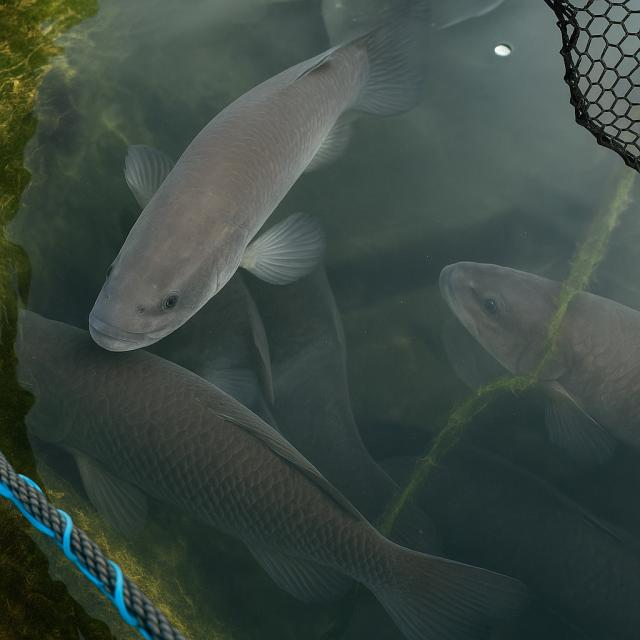ikan: (12, 304, 531, 638), (86, 10, 430, 353), (438, 259, 638, 466)
